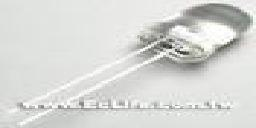LED: (130, 1, 256, 81)
